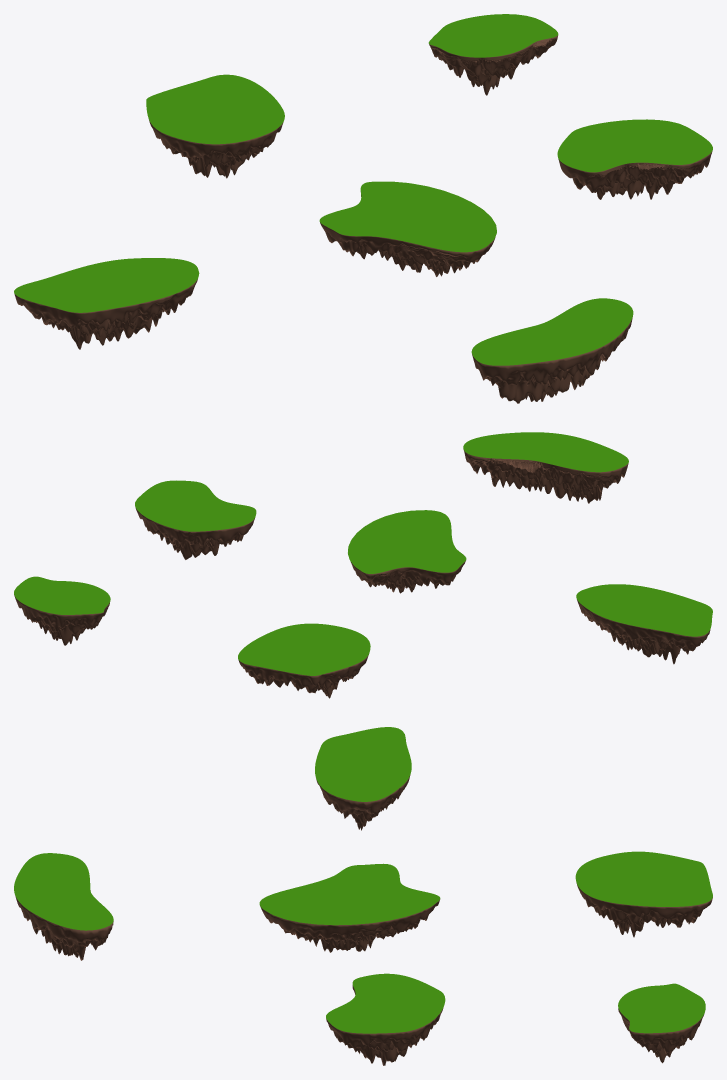
Rendered from IslandsSurrounding.fbx.
3 views of the same model, one above another, from view 1: azimuth 30°, elevation 25°; view 2: azimuth 150°, elevation 25°; view 3: azimuth 270°, elevation 25° (orthographic). The views are drawn at different scales.
Parts seen in each view (by area): view 1: BezierCircle, BezierCircle.005, BezierCircle.004, BezierCircle.003, BezierCircle.001, BezierCircle.002; view 2: BezierCircle.004, BezierCircle, BezierCircle.005, BezierCircle.003, BezierCircle.001, BezierCircle.002; view 3: BezierCircle, BezierCircle.003, BezierCircle.001, BezierCircle.005, BezierCircle.004, BezierCircle.002.
Boxes of the visible parts, x1,y1,x2,y2 form: BezierCircle: (319,181,496,276); BezierCircle.005: (14,258,199,349); BezierCircle.004: (471,298,633,403); BezierCircle.003: (146,74,284,178); BezierCircle.001: (557,119,712,199); BezierCircle.002: (428,14,558,95); BezierCircle.004: (463,432,628,503); BezierCircle: (348,510,466,593); BezierCircle.005: (576,584,712,664); BezierCircle.003: (238,623,370,698); BezierCircle.001: (135,480,256,559); BezierCircle.002: (14,576,110,645); BezierCircle: (259,863,440,952); BezierCircle.003: (575,851,712,937); BezierCircle.001: (326,973,445,1065); BezierCircle.005: (315,727,411,830); BezierCircle.004: (14,853,113,960); BezierCircle.002: (618,983,705,1063).
Bounding box in the file's own units: 9567 × 785 × 9219.
